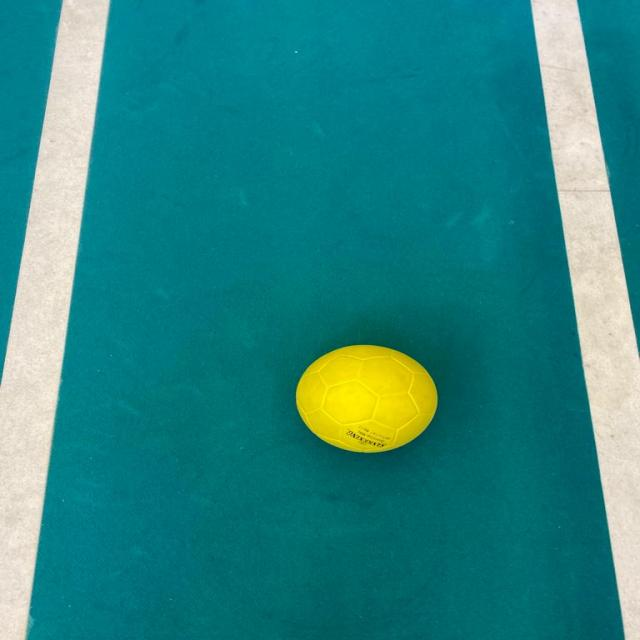ball: (284, 328, 454, 462)
